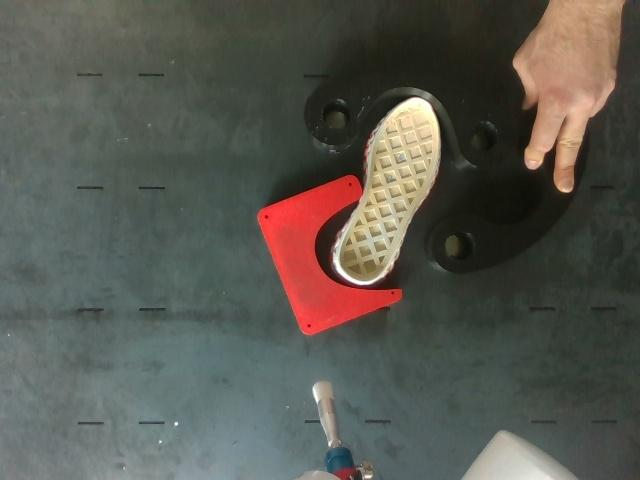shoes: (339, 98, 439, 281)
